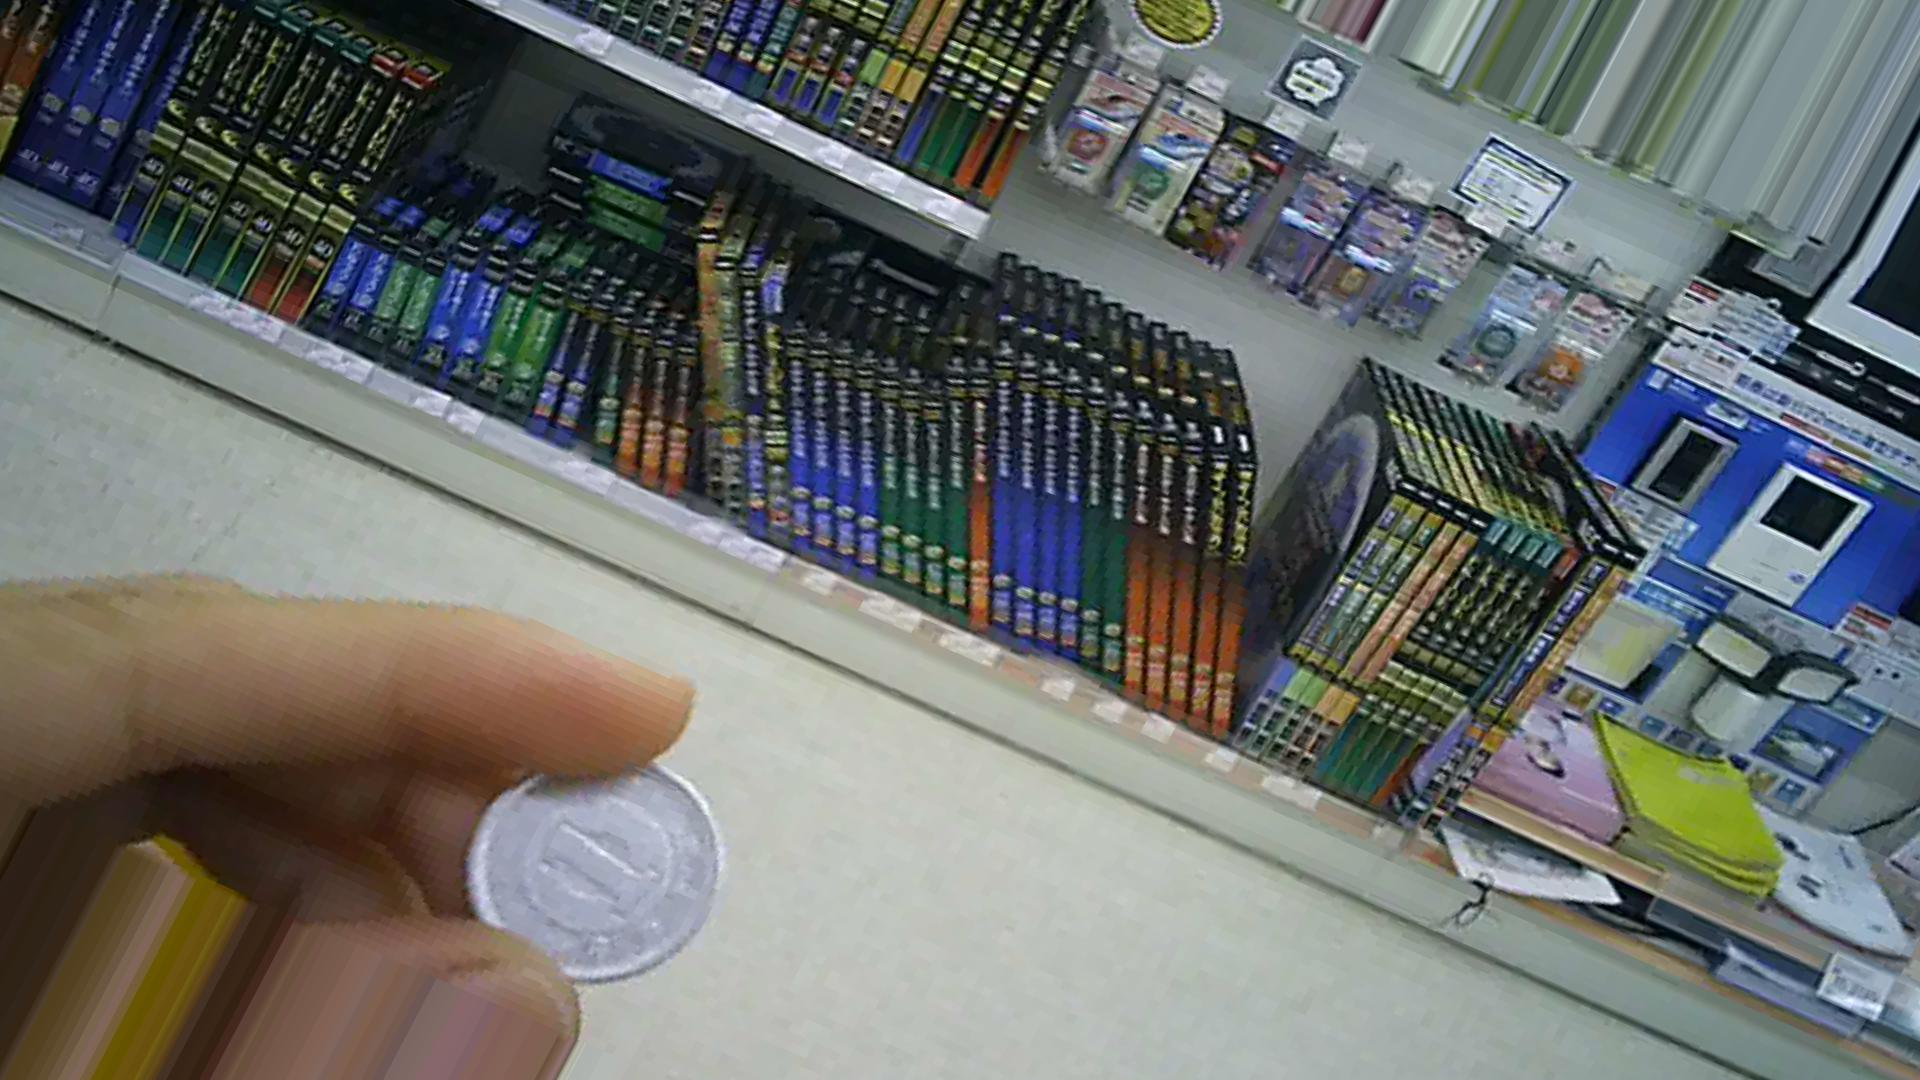1 Yen: (450, 741, 717, 1004)
